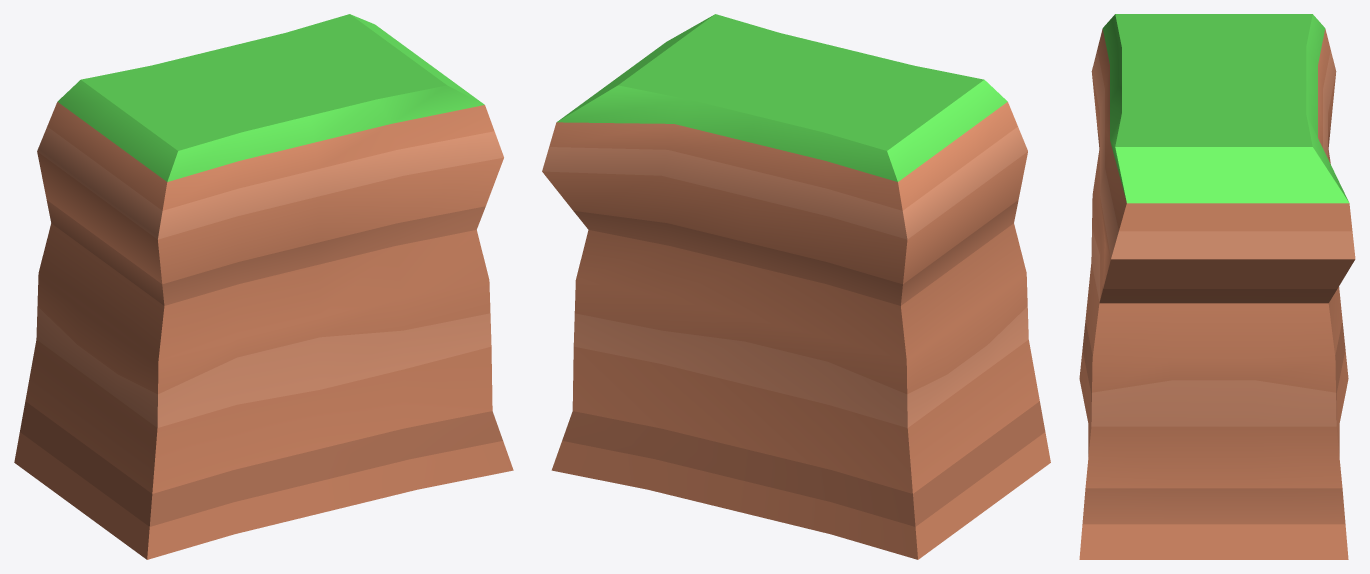
The model's file is StoneWall001.fbx.
3 views of the same model, side by side, from view 1: azimuth 30°, elevation 25°; view 2: azimuth 150°, elevation 25°; view 3: azimuth 270°, elevation 25° (orthographic).
Visible parts, largest first — view 1: StoneWall001; view 2: StoneWall001; view 3: StoneWall001.
Boxes of the visible parts, <box> form: StoneWall001: <box>14,14,513,559</box>; StoneWall001: <box>542,14,1050,559</box>; StoneWall001: <box>1079,14,1355,559</box>.
Size of the model in its own units: 456 by 449 by 289.
